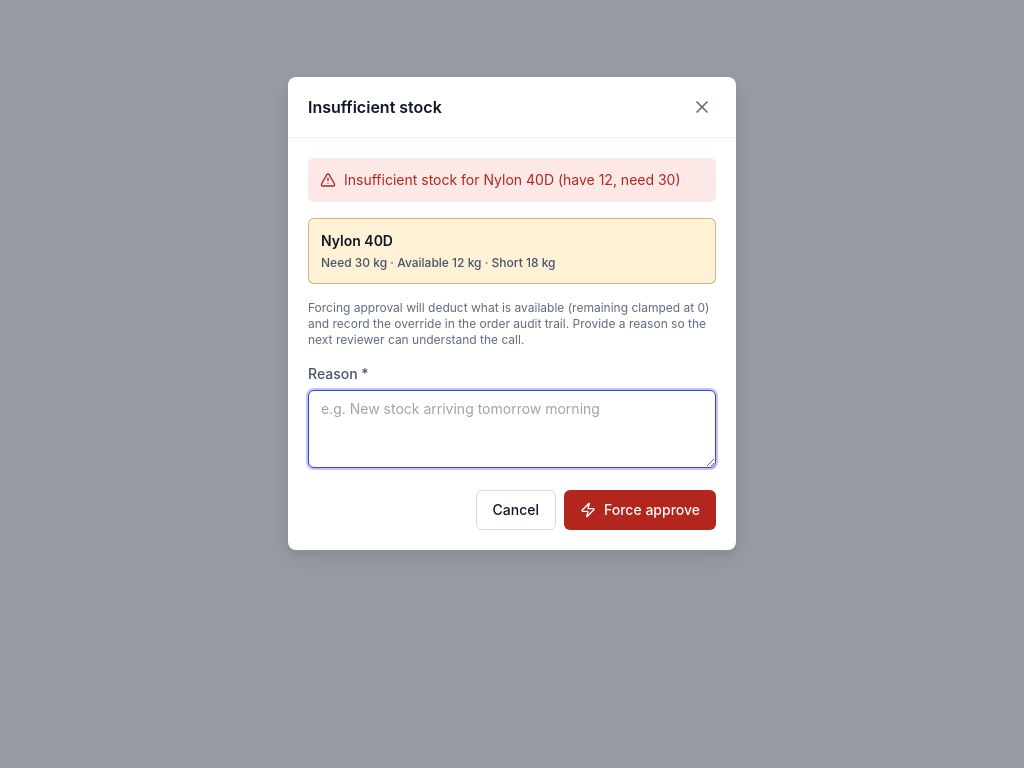
Test case: ForceApprovalDialog › blocks force approval until the reason is at least 8 characters
Type "short" into the text box with placeholder "e.g. New stock arriving tomorrow morning" at (512, 429), box x1=308 y1=390 x2=716 y2=468
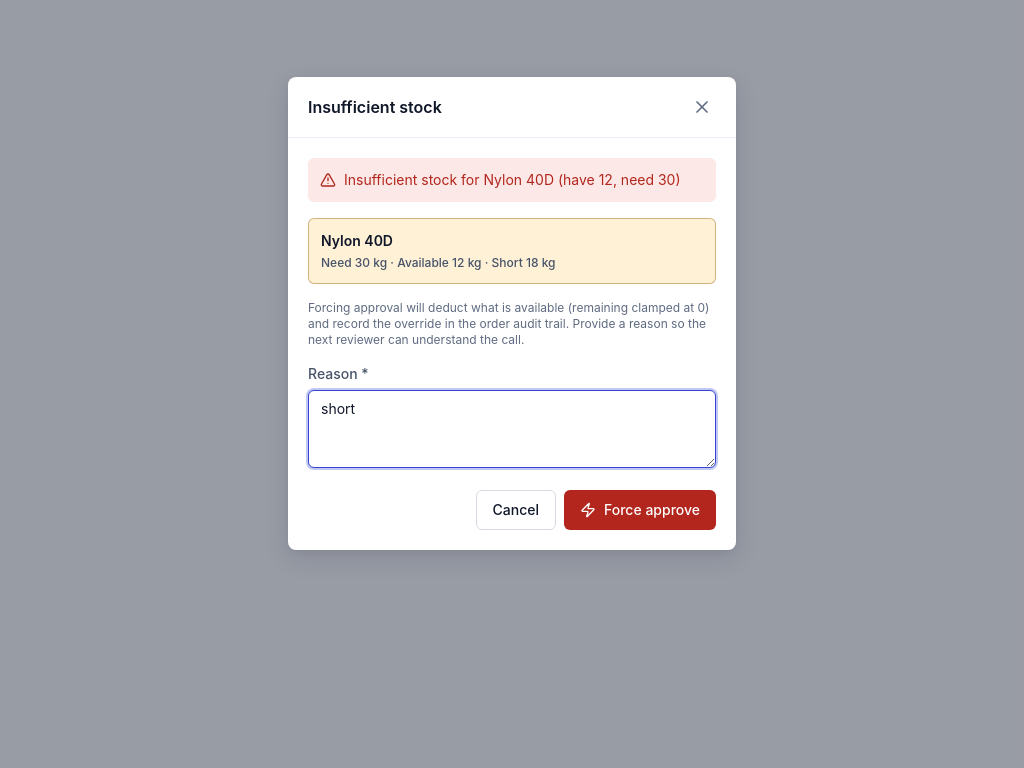
Click the button "Force approve" at (640, 510), box x1=564 y1=490 x2=716 y2=530
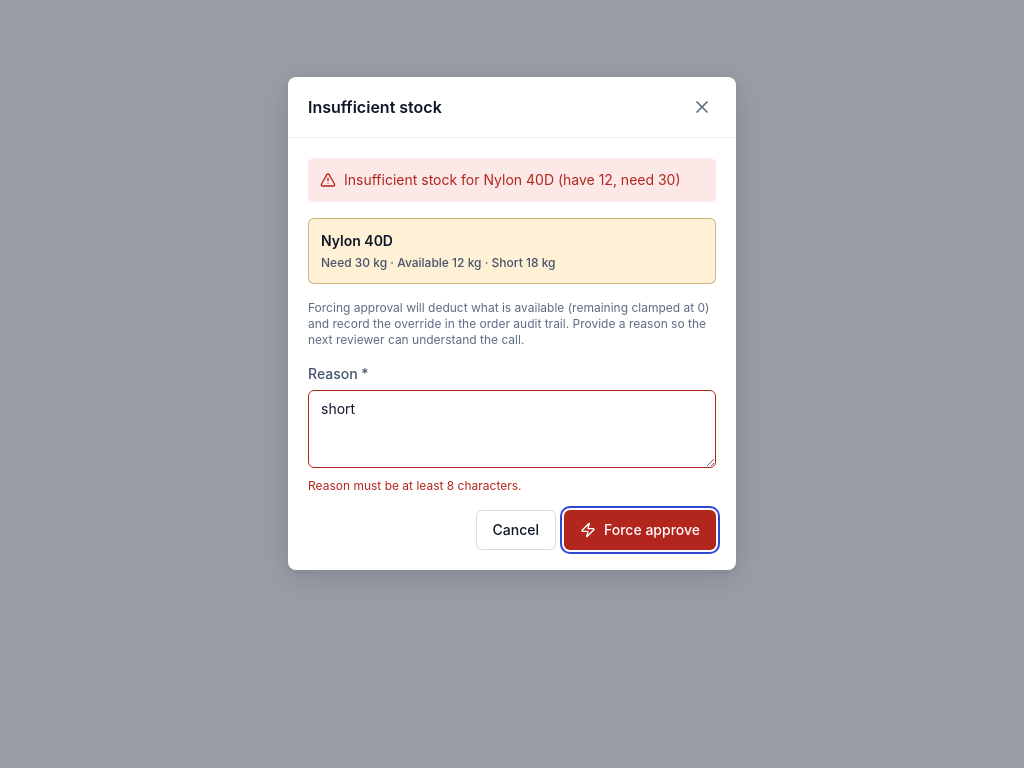
Expected: the text "Reason must be at least 8 characters." is shown, x1=308 y1=478 x2=522 y2=493
